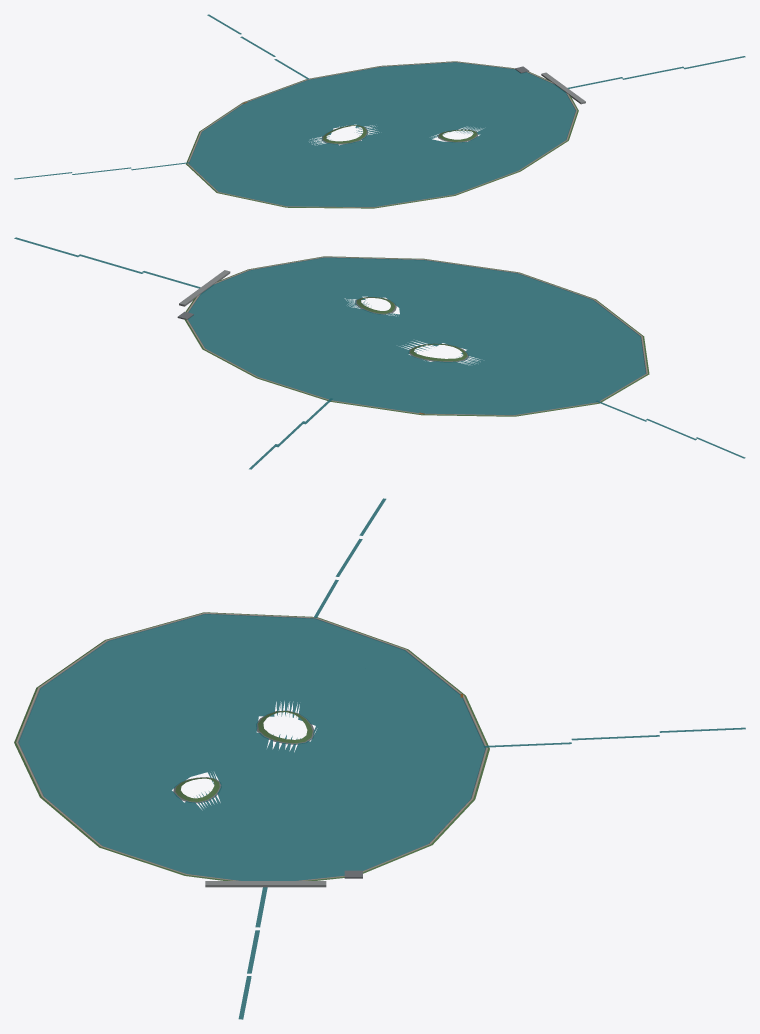
Rendered from water_ho_rlom_don_duong.glb.
3 renders of one model, top to bottom at view 1: azimuth 30°, elevation 25°; view 2: azimuth 150°, elevation 25°; view 3: azimuth 270°, elevation 25°, orthographic. The views are drawn at different scales.
Visible parts, largest first — view 1: water_surface_water_ho_rlom_don_duong, shoreline_terrain_transition_verge_water_ho_rlom_don_duong, lakeside_promenade_walkway_water_ho_rlom_don_duong, embankment_stone_coping_water_ho_rlom_don_duong, headwater_terraces_stream_rlom_east_spillway_to_da_nhim; view 2: water_surface_water_ho_rlom_don_duong, shoreline_terrain_transition_verge_water_ho_rlom_don_duong, lakeside_promenade_walkway_water_ho_rlom_don_duong, embankment_stone_coping_water_ho_rlom_don_duong, headwater_terraces_stream_rlom_east_spillway_to_da_nhim; view 3: water_surface_water_ho_rlom_don_duong, shoreline_terrain_transition_verge_water_ho_rlom_don_duong, lakeside_promenade_walkway_water_ho_rlom_don_duong, embankment_stone_coping_water_ho_rlom_don_duong, rlom_main_irrigation_earth_dam_crest.
Part boxes in pixels (x1,y1,x2,y2): water_surface_water_ho_rlom_don_duong: (189,62,575,206); shoreline_terrain_transition_verge_water_ho_rlom_don_duong: (186,61,578,208); lakeside_promenade_walkway_water_ho_rlom_don_duong: (187,61,577,207); embankment_stone_coping_water_ho_rlom_don_duong: (188,62,576,207); headwater_terraces_stream_rlom_east_spillway_to_da_nhim: (568,56,745,88); water_surface_water_ho_rlom_don_duong: (188,257,645,414); shoreline_terrain_transition_verge_water_ho_rlom_don_duong: (184,256,649,416); lakeside_promenade_walkway_water_ho_rlom_don_duong: (186,256,647,415); embankment_stone_coping_water_ho_rlom_don_duong: (187,257,646,415); headwater_terraces_stream_rlom_east_spillway_to_da_nhim: (14,237,200,288); water_surface_water_ho_rlom_don_duong: (18,614,485,880); shoreline_terrain_transition_verge_water_ho_rlom_don_duong: (14,612,489,880); lakeside_promenade_walkway_water_ho_rlom_don_duong: (16,612,487,880); embankment_stone_coping_water_ho_rlom_don_duong: (17,613,486,880); rlom_main_irrigation_earth_dam_crest: (205,881,326,887).
Size of the model in its own units: 3272 by 48.5 by 1998.
